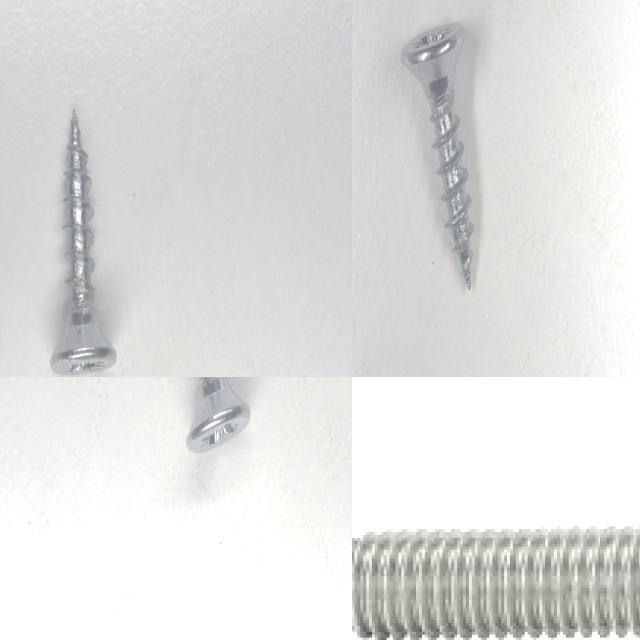Screw: (352, 530, 640, 640), (402, 22, 473, 289), (51, 109, 117, 374), (186, 377, 250, 452)
